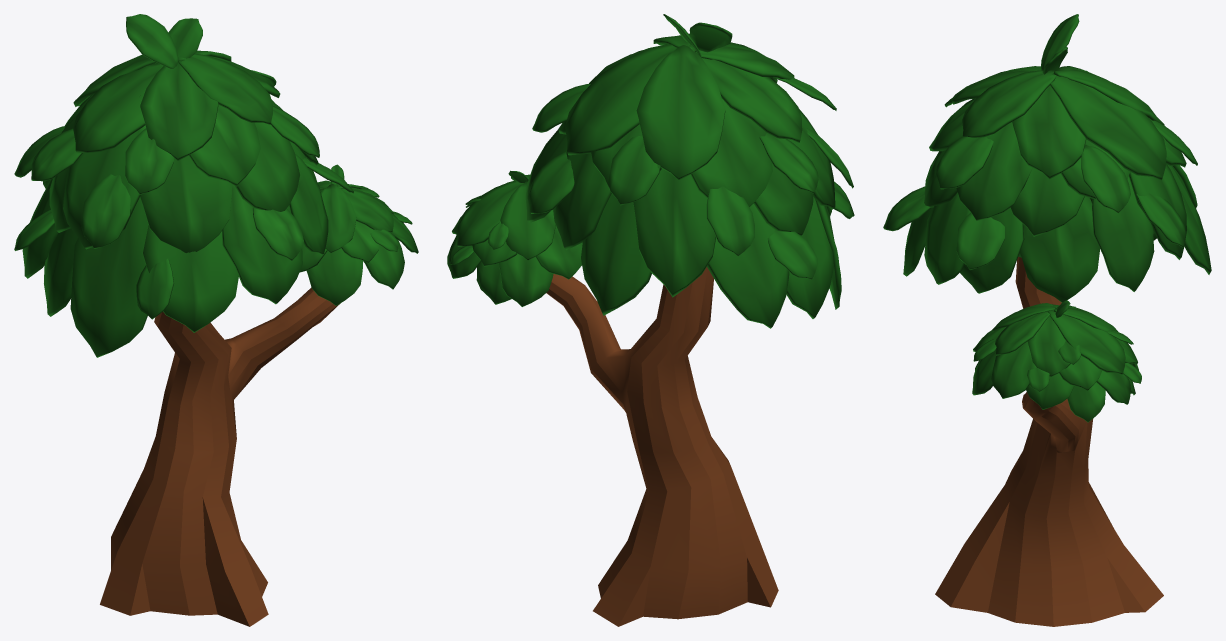
The model's file is AndreParreiras_853209.fbx_Arvore.fbx.
3 views of the same model, side by side, from view 1: azimuth 30°, elevation 25°; view 2: azimuth 150°, elevation 25°; view 3: azimuth 270°, elevation 25° (orthographic). The views are drawn at different scales.
Visible parts, largest first — view 1: Arvore; view 2: Arvore; view 3: Arvore.
Part boxes in pixels (x1=…): Arvore: x1=14, y1=14, x2=418, y2=626; Arvore: x1=447, y1=14, x2=854, y2=626; Arvore: x1=883, y1=14, x2=1211, y2=626.
Size of the model in its own units: 368 by 543 by 290.
